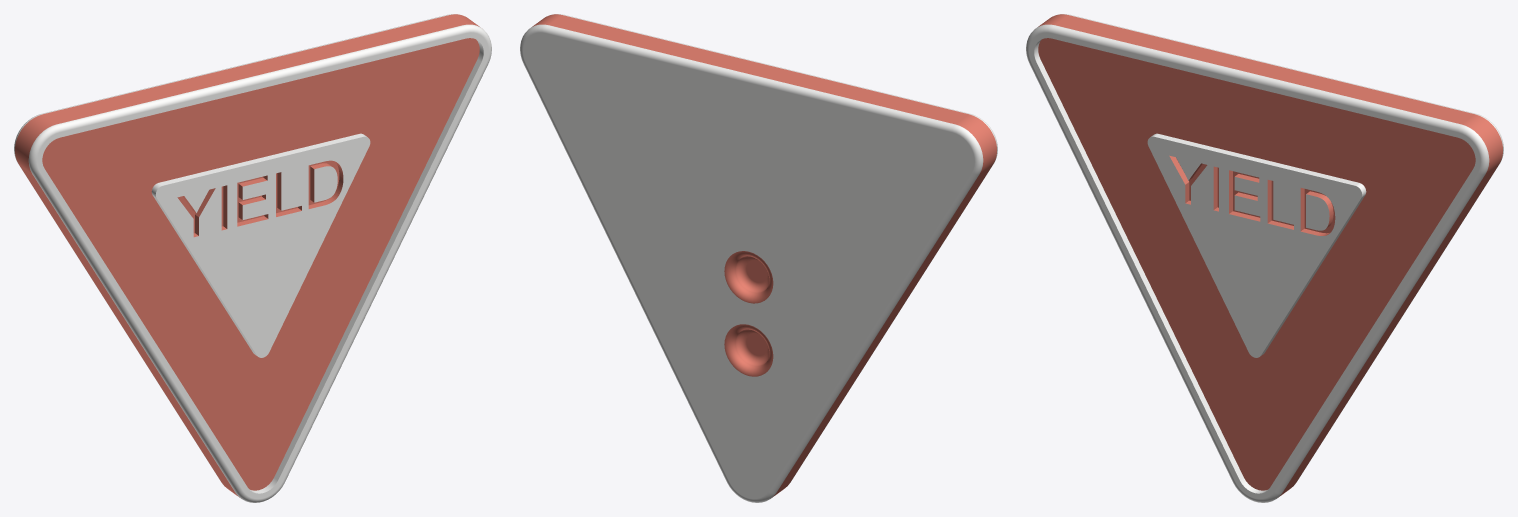
Rendered from Yield, Sign only.dae.
3 renders of one model, left to right at view 1: azimuth 30°, elevation 25°; view 2: azimuth 150°, elevation 25°; view 3: azimuth 330°, elevation 25°, orthographic.
Parts seen in each view (by area): view 1: Yield, Sign only; view 2: Yield, Sign only; view 3: Yield, Sign only.
Part boxes in pixels (x1=…): Yield, Sign only: x1=14, y1=14, x2=491, y2=502; Yield, Sign only: x1=520, y1=14, x2=997, y2=502; Yield, Sign only: x1=1026, y1=14, x2=1503, y2=502.
Size of the model in its own units: 0.084 by 0.00635 by 0.0741.
